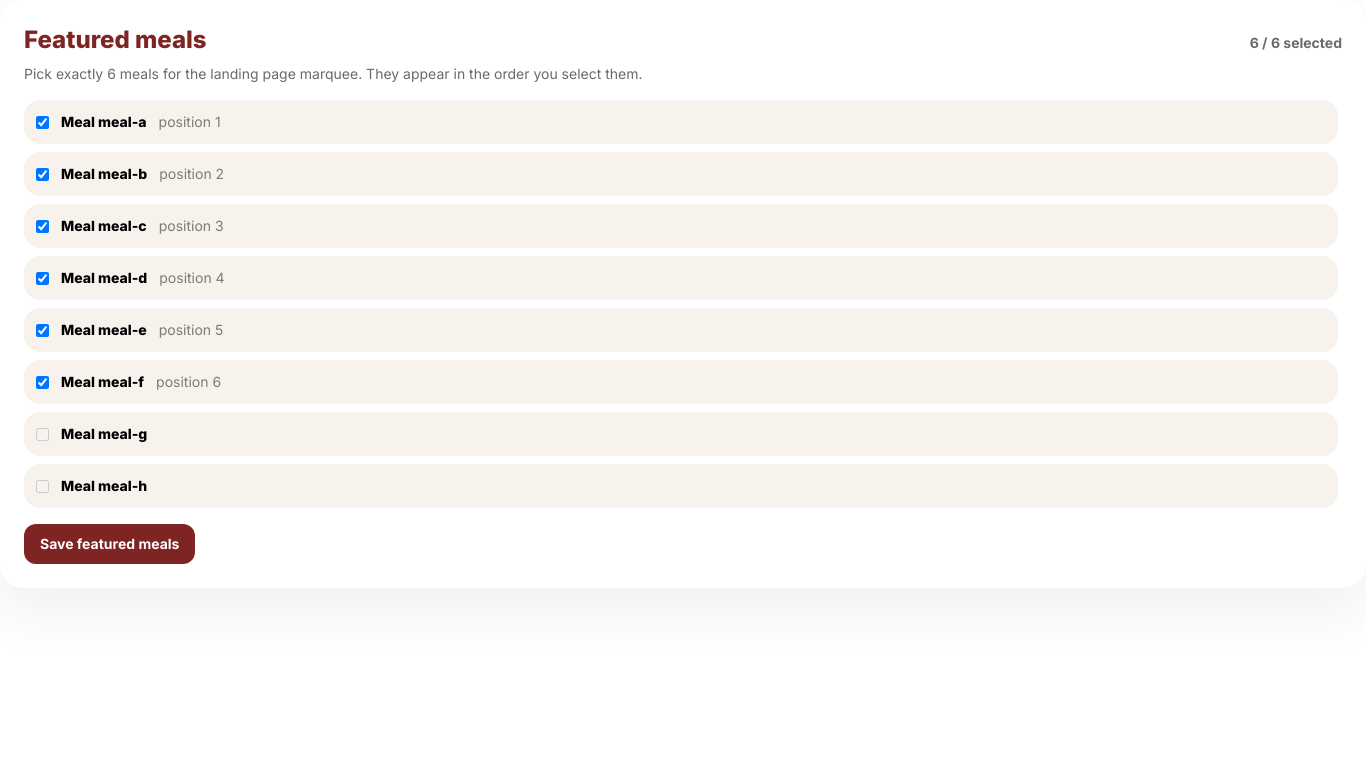
Test: FeaturedMealsPanel › saves the selected slugs in selection order and confirms success
Click the checkbox labelled "Meal meal-a position 1". click: (42,122)
box: [36, 116, 49, 128]
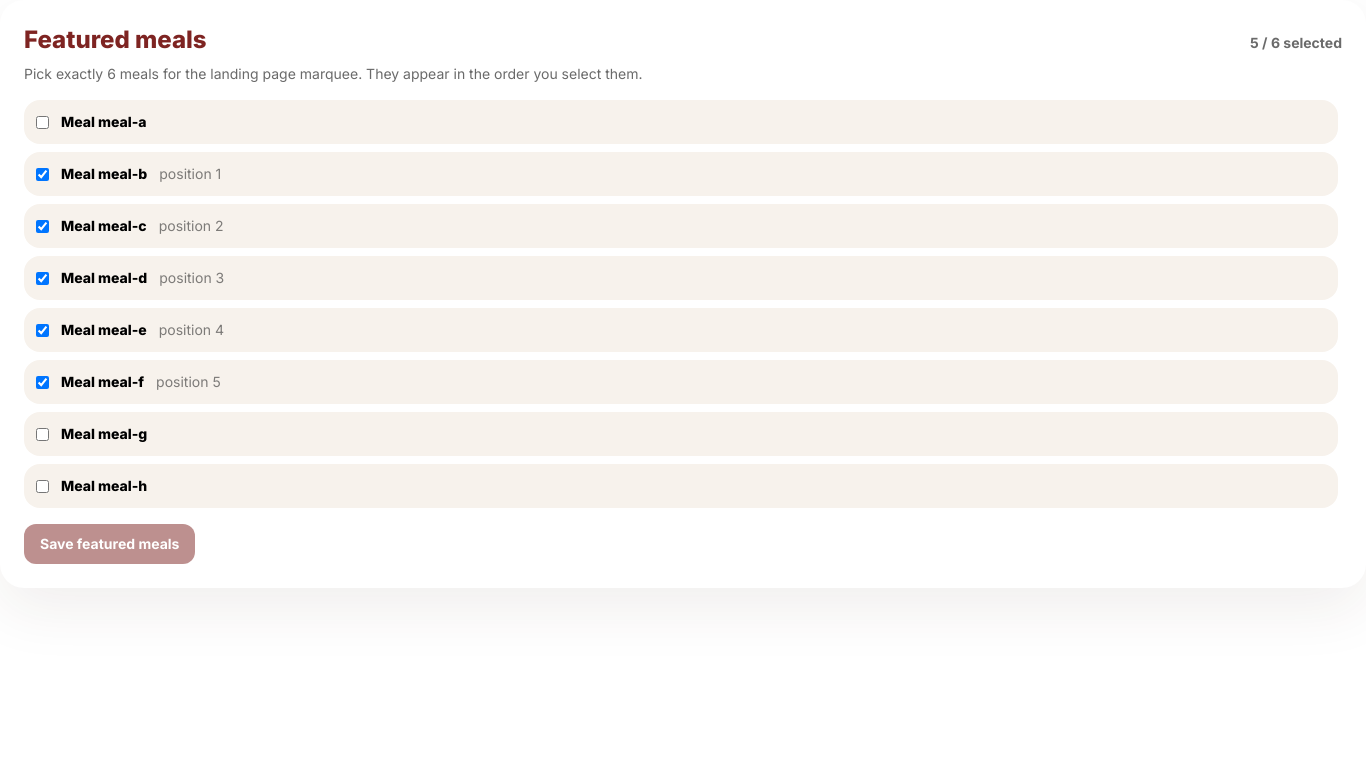
Click the checkbox labelled "Meal meal-g". click: (42,434)
box: [36, 428, 49, 440]
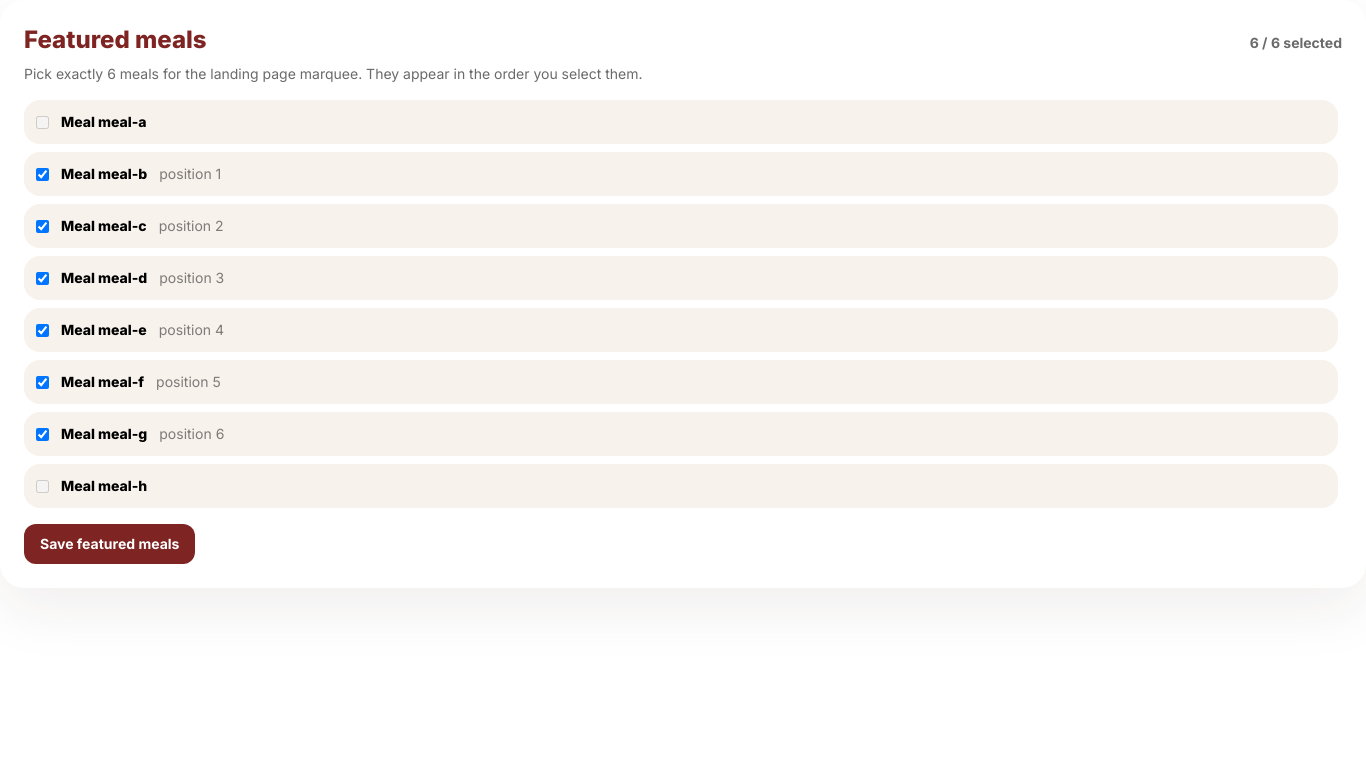
Click the button "Save featured meals". click: (110,544)
box: [24, 524, 195, 564]
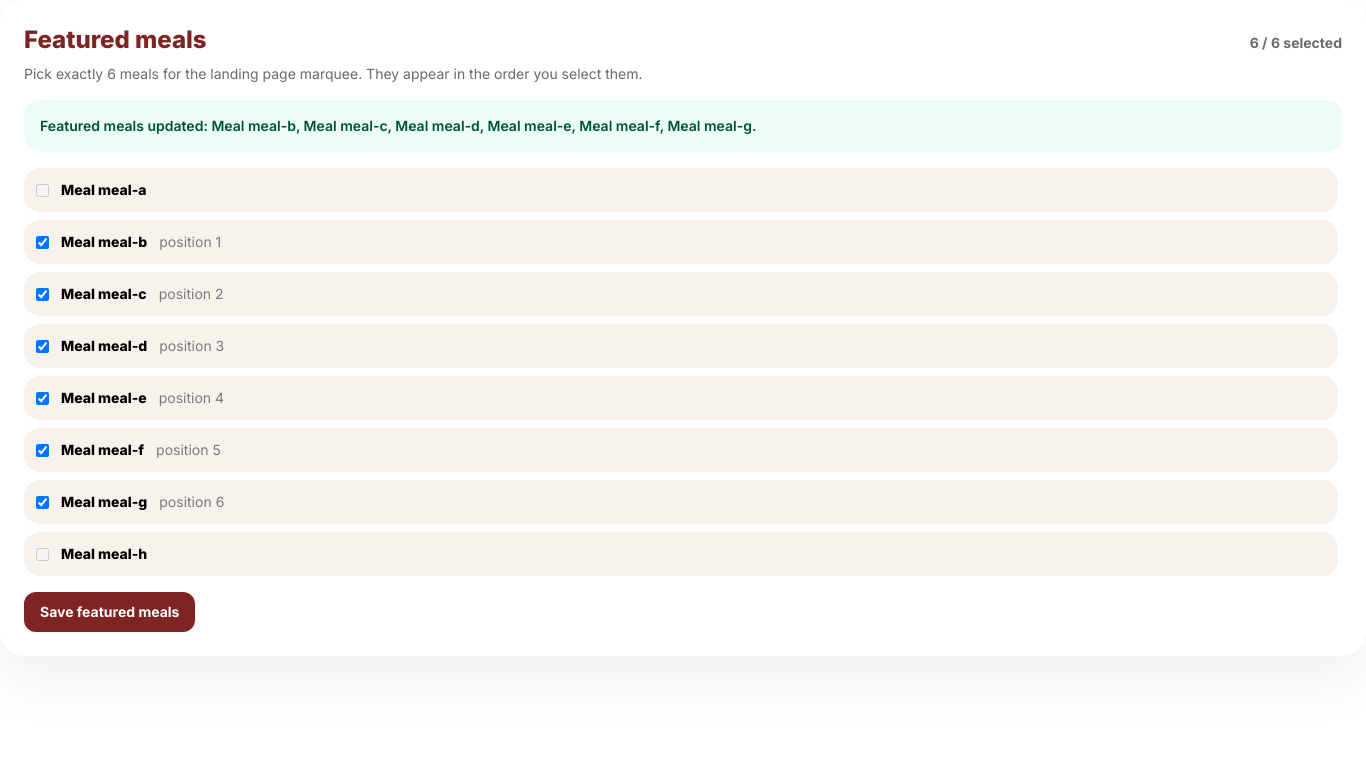
Now the message shows "Featured meals updated", box [40, 117, 756, 134]
